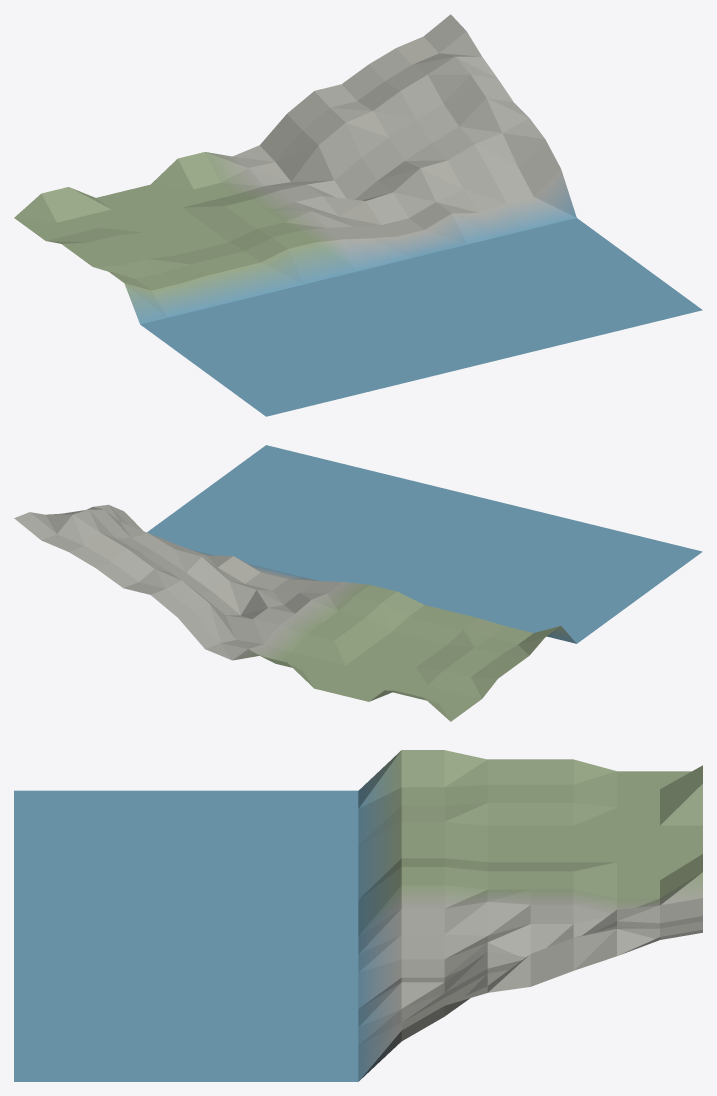
The picture shows the model from 3 angles, top to bottom: view 1: azimuth 30°, elevation 25°; view 2: azimuth 150°, elevation 25°; view 3: azimuth 270°, elevation 25°; orthographic projection. The views are drawn at different scales.
Size of the model in its own units: 32 by 7.8 by 32.
